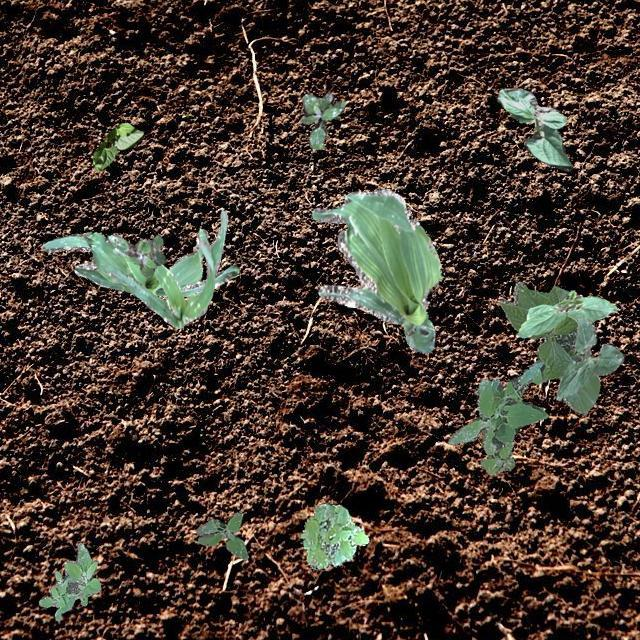crop: (310, 188, 442, 352), (100, 208, 226, 328), (41, 228, 238, 296), (498, 281, 598, 414), (496, 86, 572, 170), (554, 316, 624, 399), (516, 290, 616, 336), (91, 121, 142, 170)
weed: (448, 359, 546, 474), (37, 542, 100, 620), (300, 502, 368, 570), (298, 92, 344, 150), (195, 511, 248, 558), (106, 234, 164, 276)
